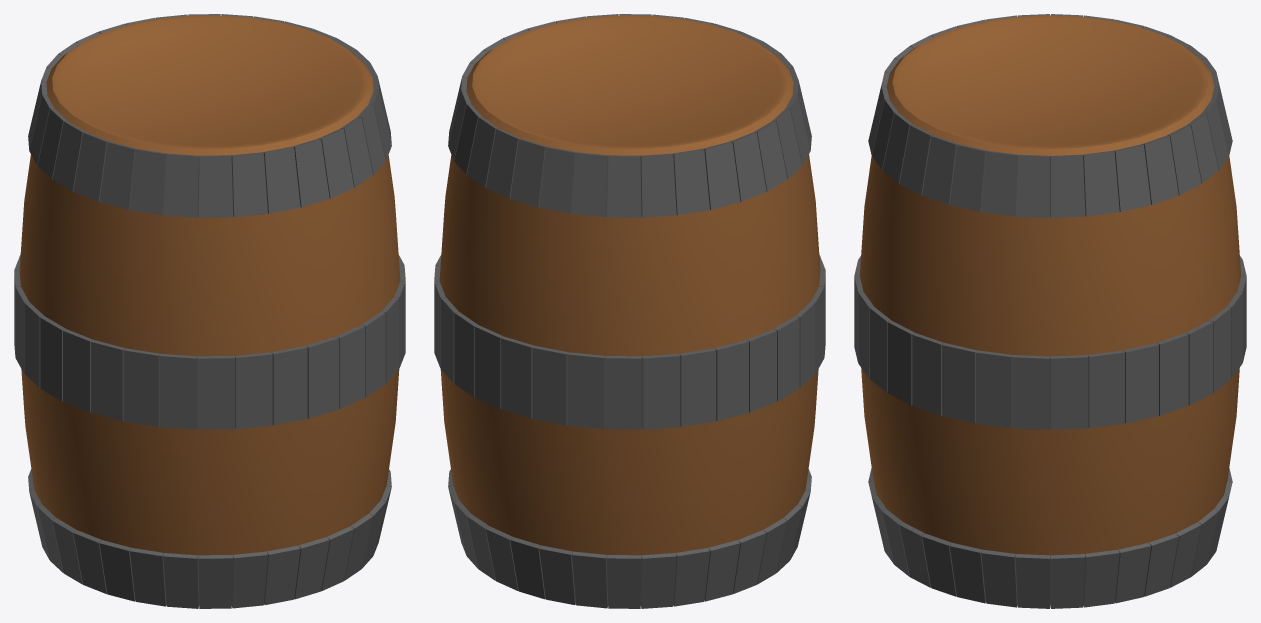
The model's file is Barril.fbx.
The picture shows the model from 3 angles, left to right: view 1: azimuth 30°, elevation 25°; view 2: azimuth 150°, elevation 25°; view 3: azimuth 270°, elevation 25°; orthographic projection.
Parts seen in each view (by area): view 1: Cylinder; view 2: Cylinder; view 3: Cylinder.
Part boxes in pixels (bbox=[...]): Cylinder: bbox=[14, 14, 405, 608]; Cylinder: bbox=[434, 14, 825, 608]; Cylinder: bbox=[854, 14, 1246, 608].
Size of the model in its own units: 239 by 239 by 306.
